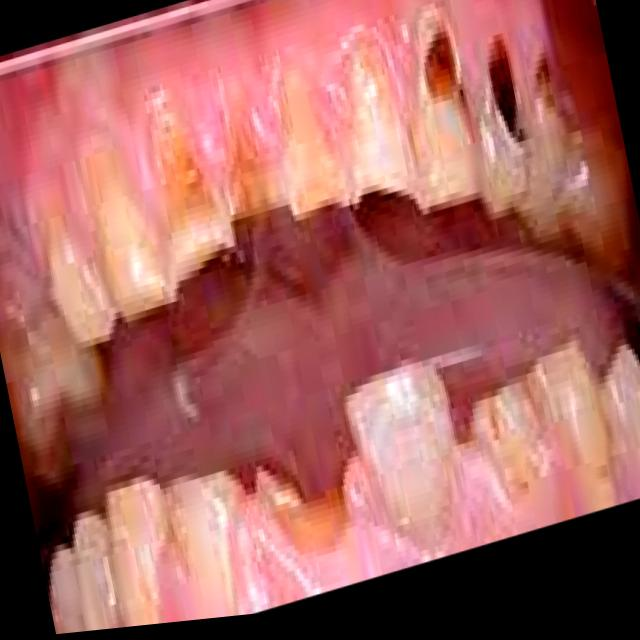cariess: (492, 45, 575, 203), (428, 37, 472, 170)
